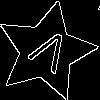V: (21, 26, 75, 83)
